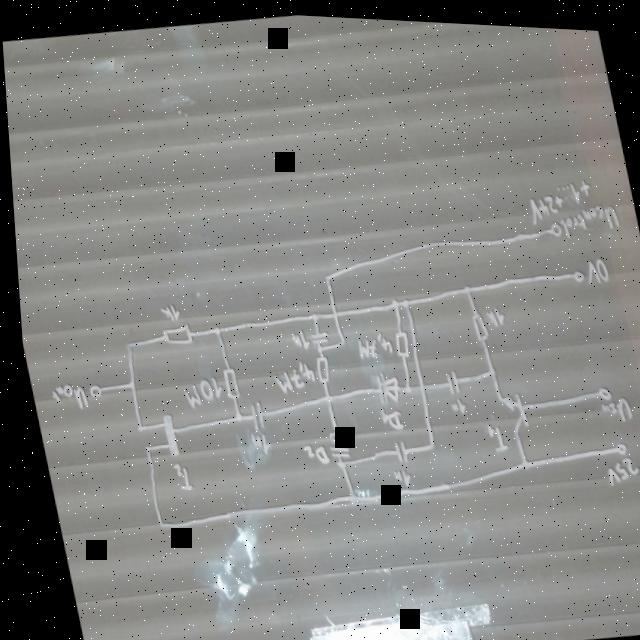capacitor: (242, 398, 264, 430), (385, 435, 406, 462), (440, 364, 458, 393), (306, 327, 328, 345)
crossover: (412, 376, 425, 391), (326, 307, 337, 318)
diode: (368, 366, 400, 403), (320, 424, 348, 459)
junction: (316, 389, 331, 404), (330, 456, 344, 470), (420, 435, 433, 449), (228, 408, 241, 422), (207, 322, 220, 336), (515, 453, 527, 468), (482, 362, 495, 375), (397, 379, 410, 392), (341, 489, 354, 502), (387, 294, 398, 309), (120, 338, 132, 351), (398, 293, 409, 307), (121, 379, 133, 391), (150, 518, 162, 530), (334, 333, 345, 345), (311, 340, 322, 352), (307, 308, 317, 321), (460, 280, 470, 292), (320, 270, 330, 282)
resistor: (157, 322, 192, 347), (216, 364, 239, 400), (388, 323, 410, 358), (466, 307, 487, 341), (310, 351, 330, 384)
terminal: (591, 378, 610, 397), (82, 382, 99, 401), (567, 261, 584, 280), (547, 216, 562, 234), (609, 435, 624, 452)
text: (523, 171, 596, 223), (556, 194, 620, 237), (267, 356, 315, 395), (177, 372, 222, 411), (43, 379, 87, 415), (598, 450, 637, 482), (352, 326, 391, 358), (595, 390, 630, 419), (478, 416, 506, 451), (296, 439, 327, 467), (374, 399, 402, 429), (581, 251, 608, 281), (167, 461, 189, 492), (244, 428, 268, 455), (286, 325, 308, 351), (156, 301, 179, 324), (387, 464, 409, 487), (482, 302, 504, 324), (445, 392, 464, 413)
transistor: (128, 410, 177, 461), (492, 387, 528, 433)
